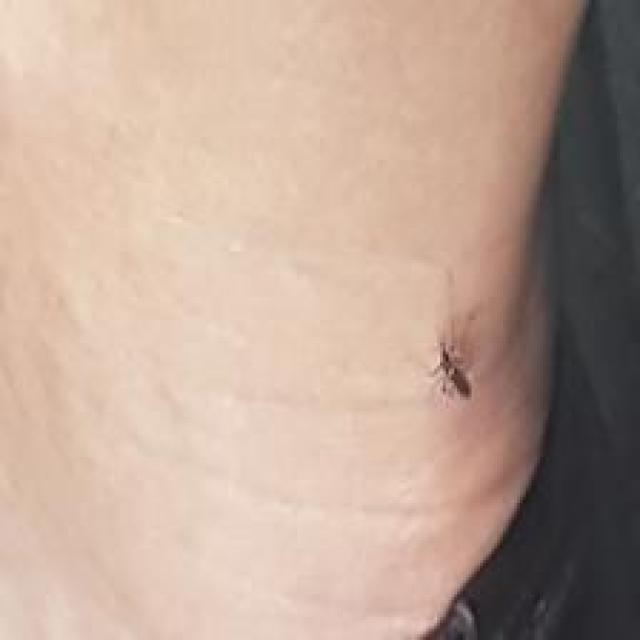Aedes albopictus: (427, 342, 473, 402)
